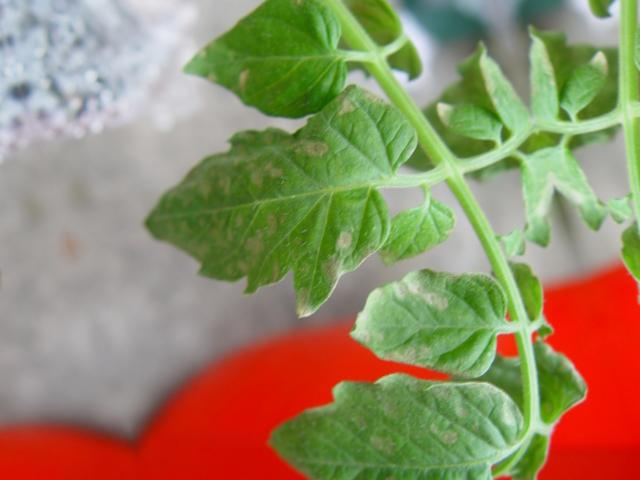Tomato mold leaf: (107, 62, 453, 357), (249, 325, 546, 480), (331, 246, 525, 412), (166, 0, 362, 153)
